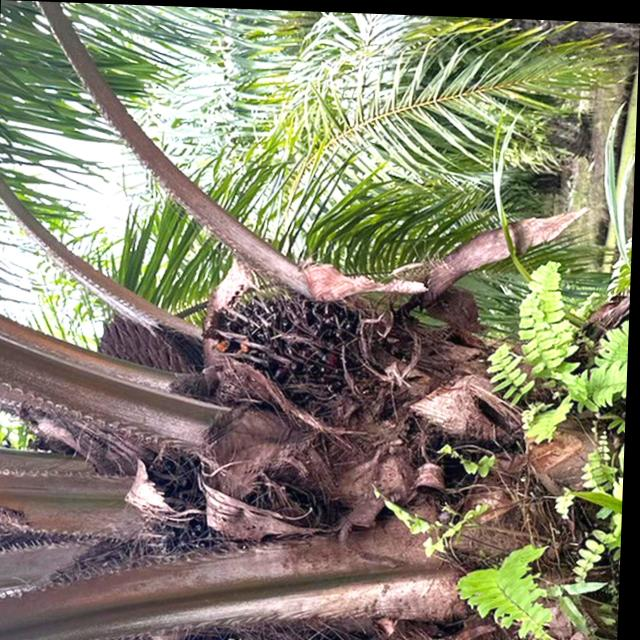ripe: (205, 287, 369, 396)
